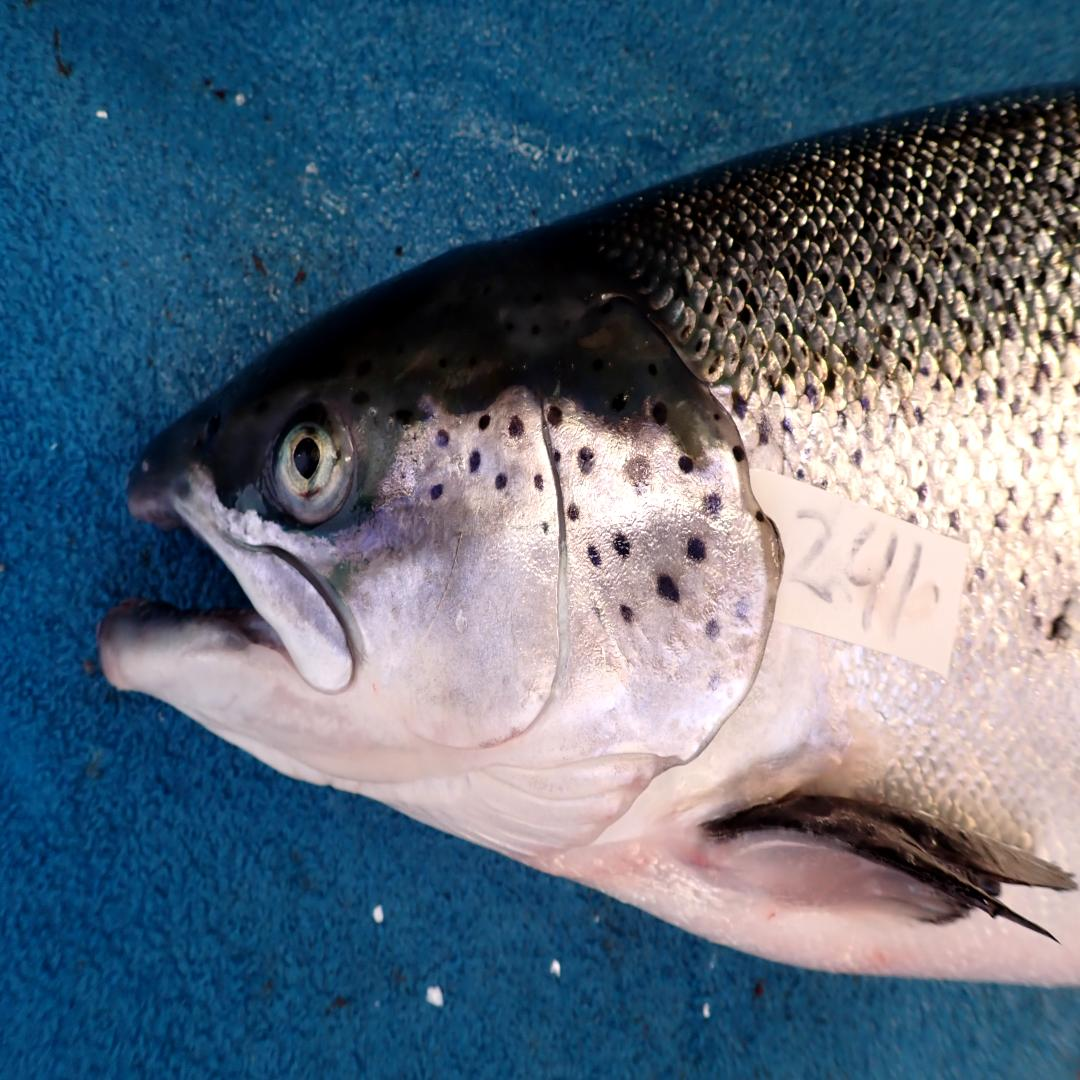roi: (351, 384, 779, 864)
